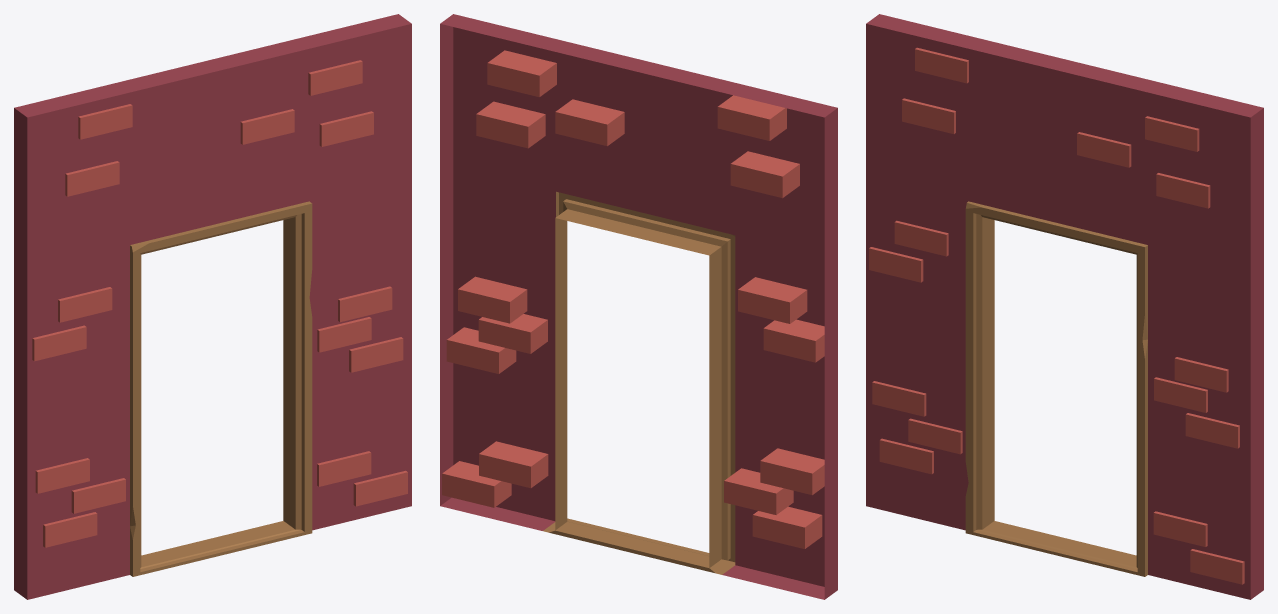
The model's file is Wall_Brick_Door.FBX.
The picture shows the model from 3 angles, left to right: view 1: azimuth 30°, elevation 25°; view 2: azimuth 150°, elevation 25°; view 3: azimuth 330°, elevation 25°; orthographic projection.
Visible parts, largest first — view 1: Wall_Brick_Door; view 2: Wall_Brick_Door; view 3: Wall_Brick_Door.
Part boxes in pixels (box(x1,y1,x2,y2)): Wall_Brick_Door: box(14, 14, 411, 599); Wall_Brick_Door: box(440, 14, 837, 599); Wall_Brick_Door: box(866, 14, 1263, 599).
Size of the model in its own units: 250 by 300 by 22.72.
